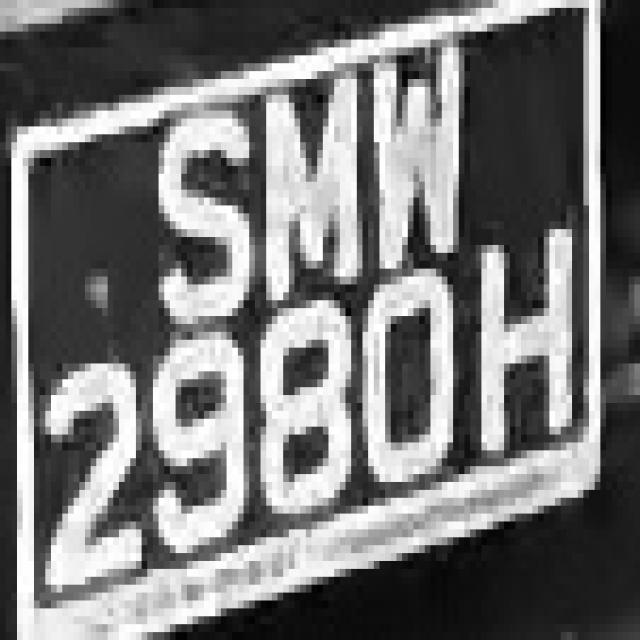0: (368, 245, 470, 490)
2: (40, 324, 142, 593)
8: (244, 269, 362, 553)
9: (141, 300, 255, 585)
H: (458, 205, 594, 490)
M: (249, 55, 351, 324)
S: (136, 87, 272, 332)
W: (363, 32, 470, 276)
